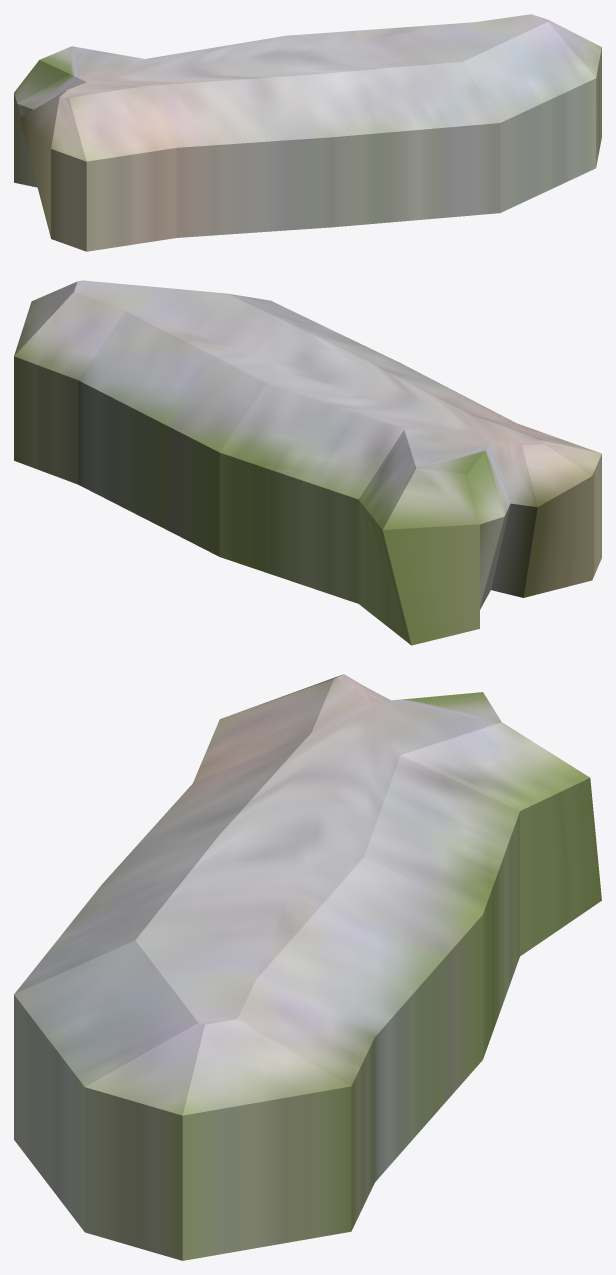
Rendered from stone.35.fbx.
3 renders of one model, top to bottom at view 1: azimuth 30°, elevation 25°; view 2: azimuth 150°, elevation 25°; view 3: azimuth 270°, elevation 25°, orthographic. The views are drawn at different scales.
Visible parts, largest first — view 1: stone.35; view 2: stone.35; view 3: stone.35.
Part boxes in pixels (box(x1,y1,x2,y2)): stone.35: box(14, 14, 601, 251); stone.35: box(14, 280, 601, 645); stone.35: box(14, 674, 601, 1260).
Bounding box in the file's own units: 42.6 × 9.74 × 26.
1 material, 1 textured.
